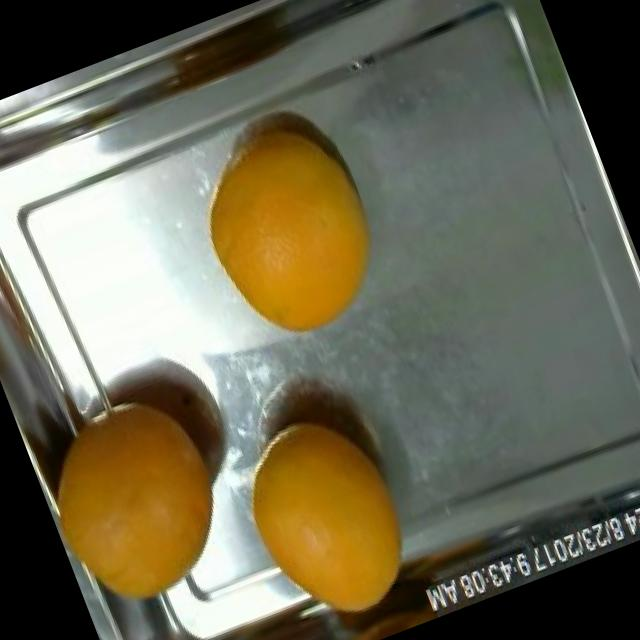Fruit: (25, 368, 277, 640), (199, 385, 453, 640)
